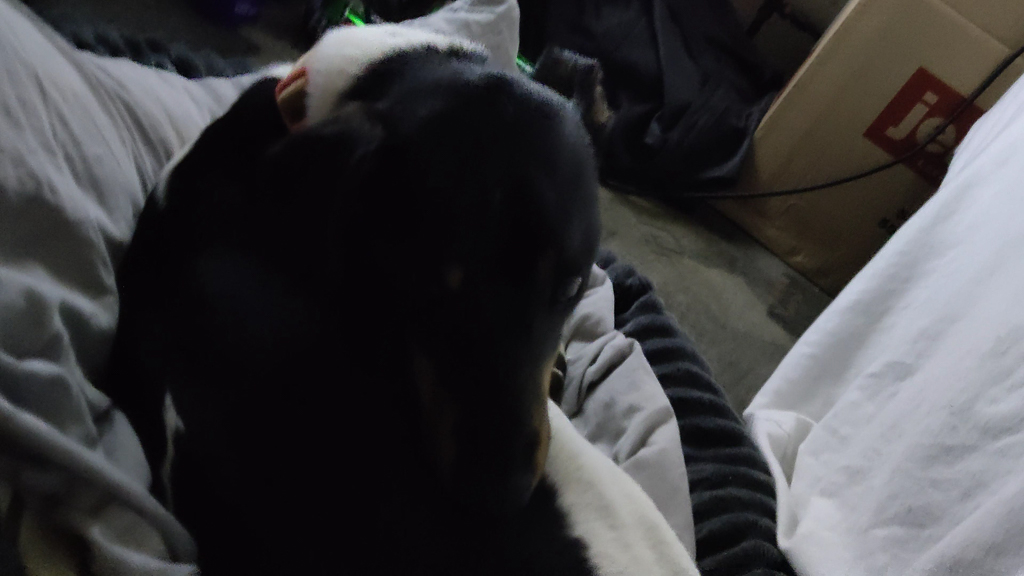Dog: (97, 19, 705, 576)
